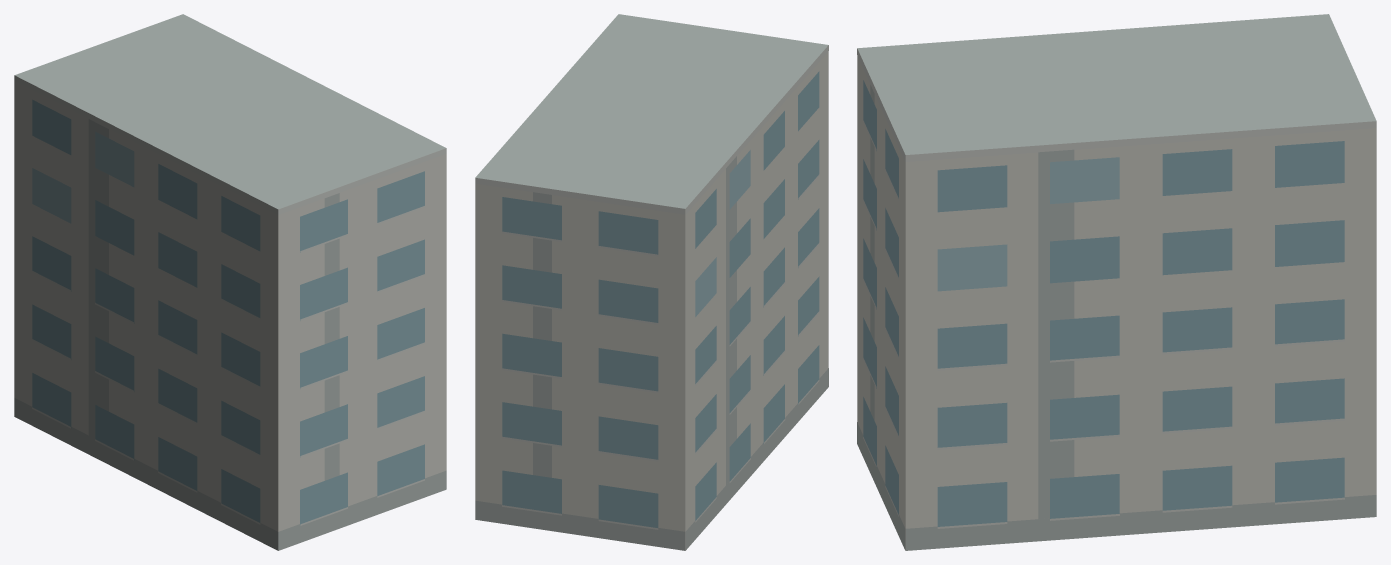
Rendered from survey-upis-32894579.glb.
3 views of the same model, side by side, from view 1: azimuth 30°, elevation 25°; view 2: azimuth 150°, elevation 25°; view 3: azimuth 270°, elevation 25° (orthographic). The views are drawn at different scales.
Visible parts, largest first — view 1: survey-upis-32894579.tmp; view 2: survey-upis-32894579.tmp; view 3: survey-upis-32894579.tmp.
Part boxes in pixels (left/top/right/bottom): survey-upis-32894579.tmp: left=14, top=14, right=446, bottom=550; survey-upis-32894579.tmp: left=475, top=14, right=828, bottom=550; survey-upis-32894579.tmp: left=857, top=14, right=1376, bottom=550.
Size of the model in its own units: 10.94 by 14.3 by 17.02.
